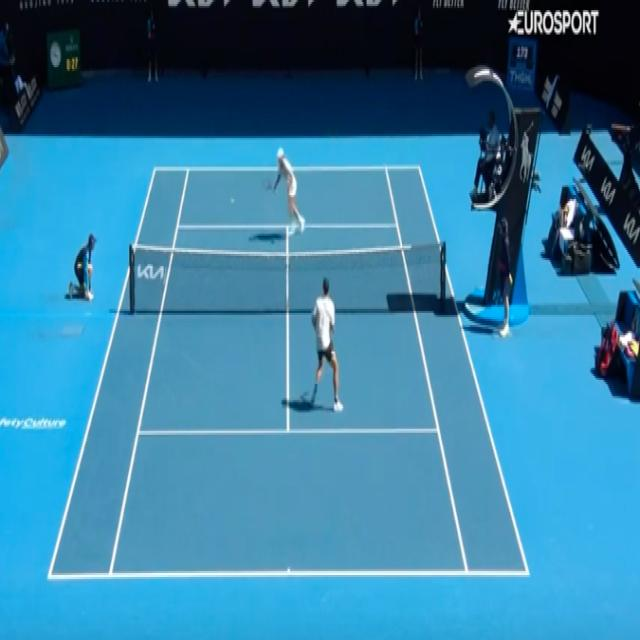ball: (230, 196, 236, 206)
